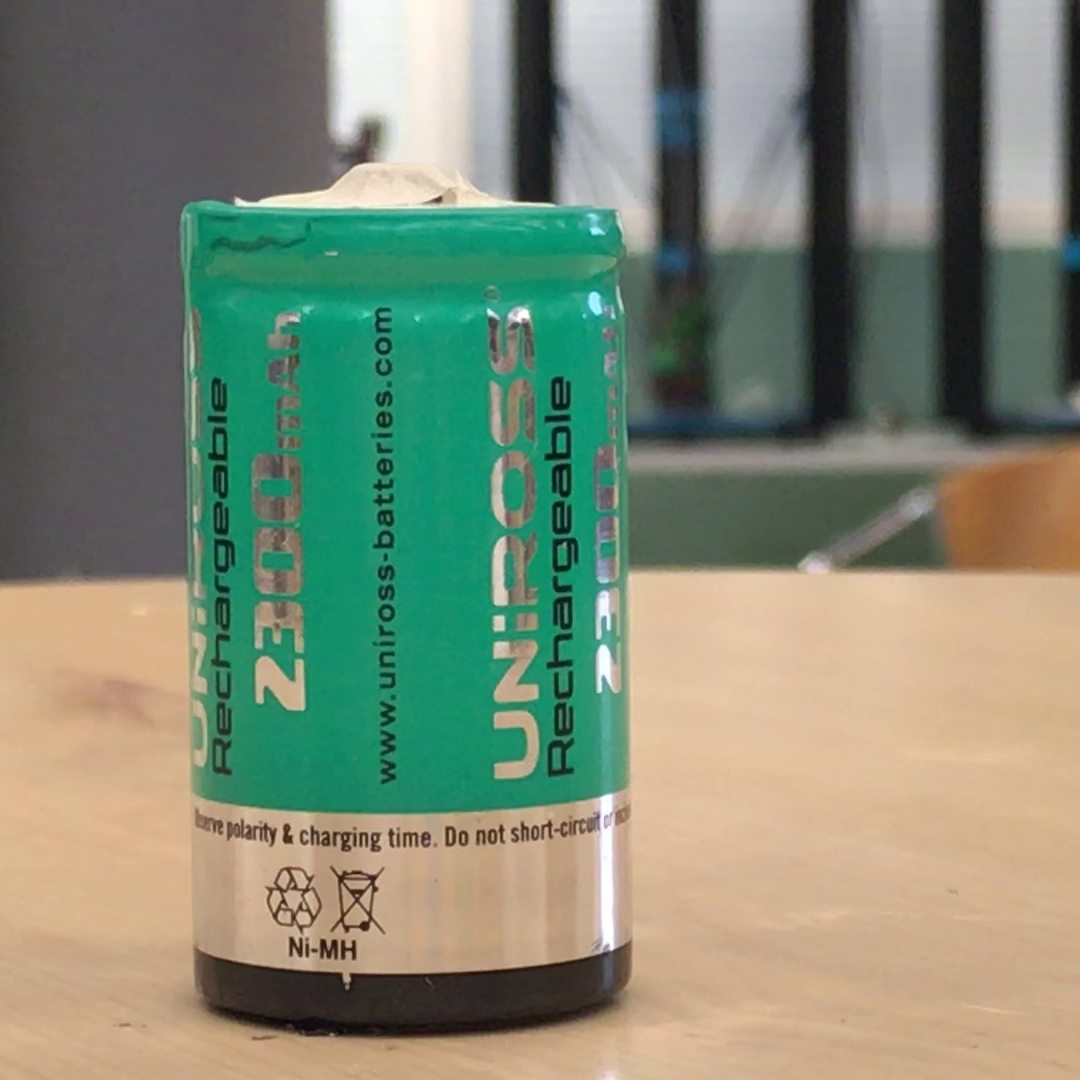keyword: (279, 929, 367, 967)
